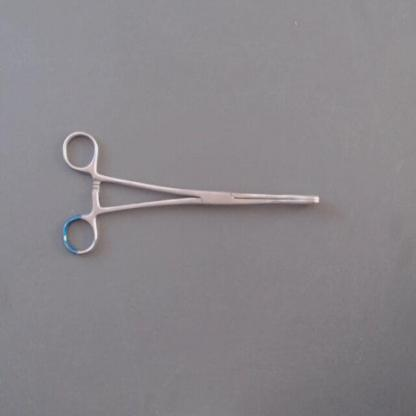Sponge Forceps: (55, 127, 324, 265)
